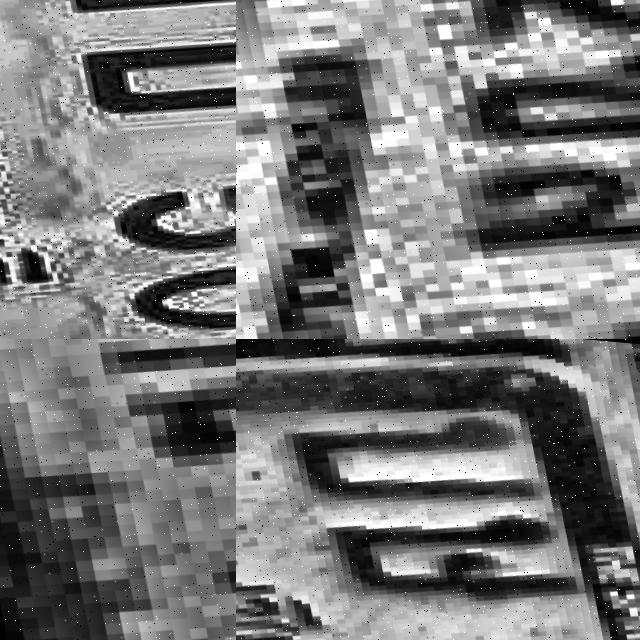license-plate: (236, 0, 640, 339), (236, 339, 640, 640), (0, 0, 236, 339), (0, 339, 236, 640)
